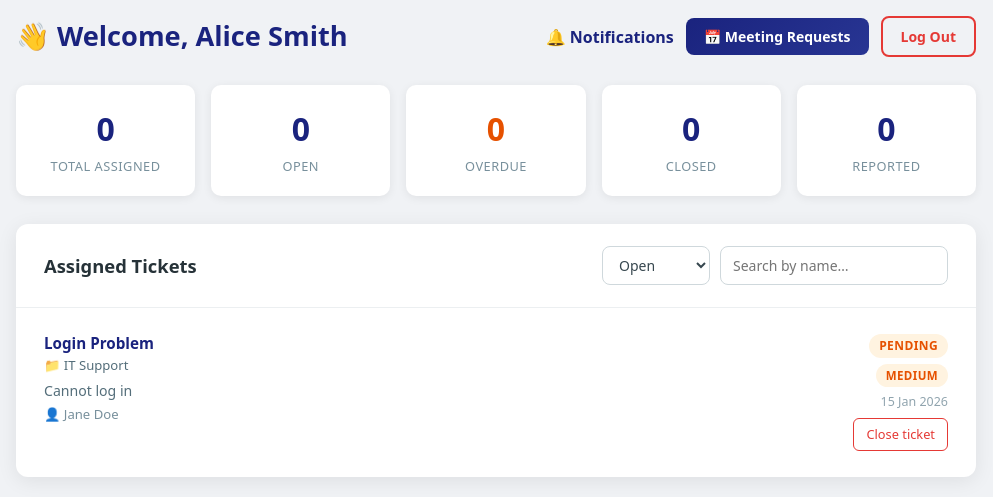
Test case: StaffDashboardPage – close ticket › confirming both dialogs sends PATCH and removes Close button
Click the button "Close ticket" at (901, 435), box [854, 418, 948, 451]
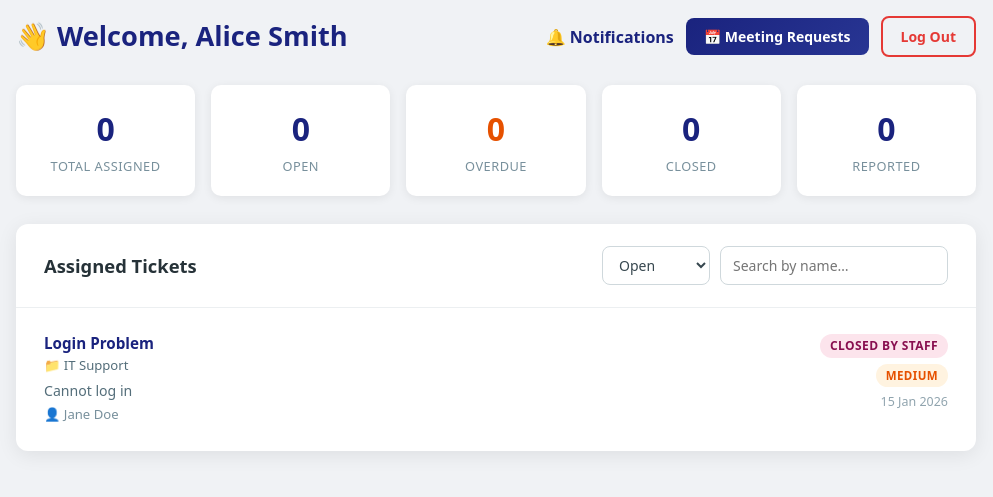
Expected: the button "Close ticket" is gone
